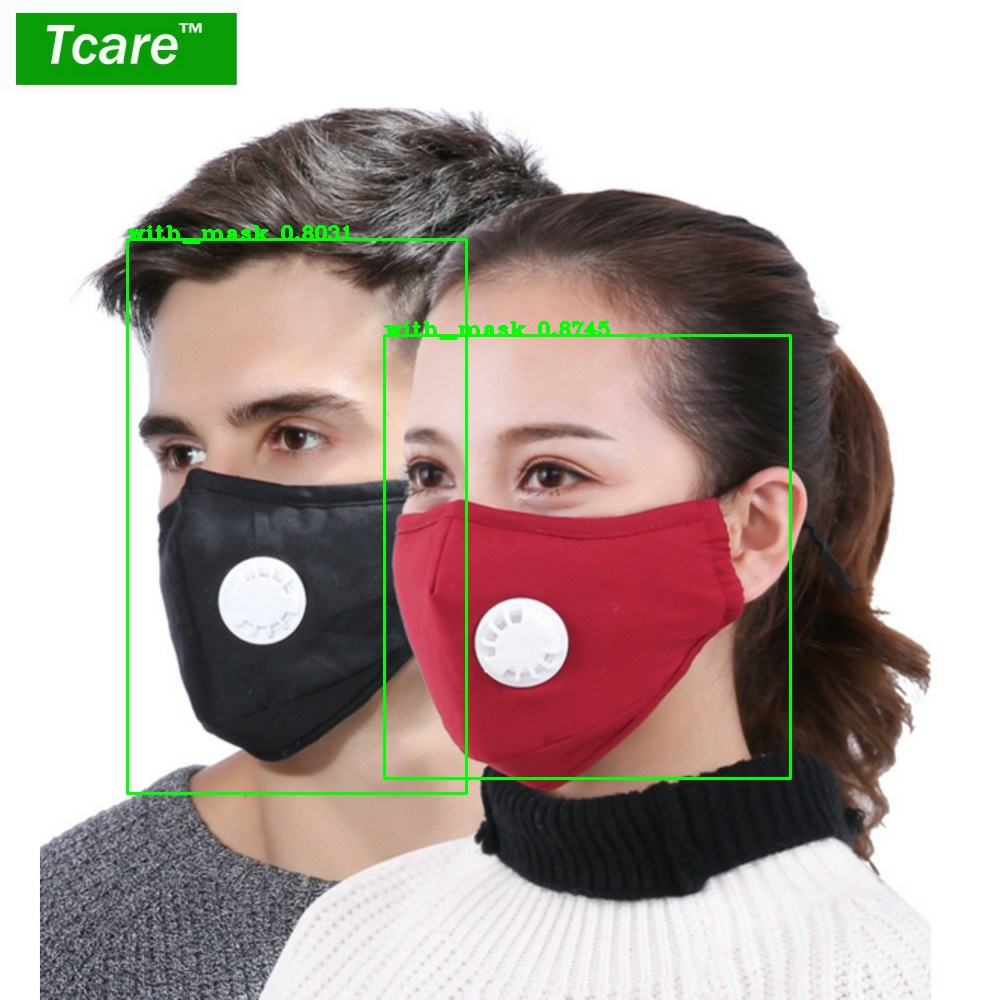with_mask: (376, 279, 826, 794), (99, 232, 417, 769)
